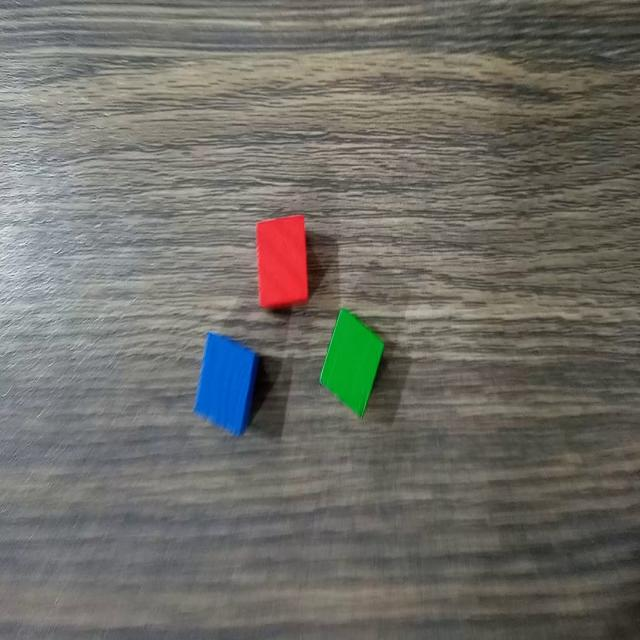cube: (316, 299, 390, 424), (189, 326, 260, 441), (253, 208, 312, 313)
